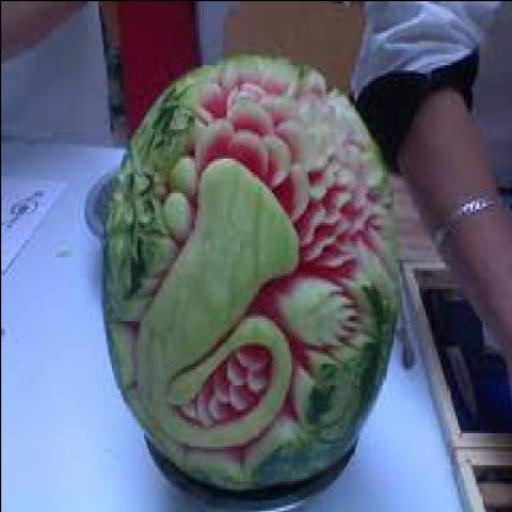biodegradable: (98, 50, 392, 488)
